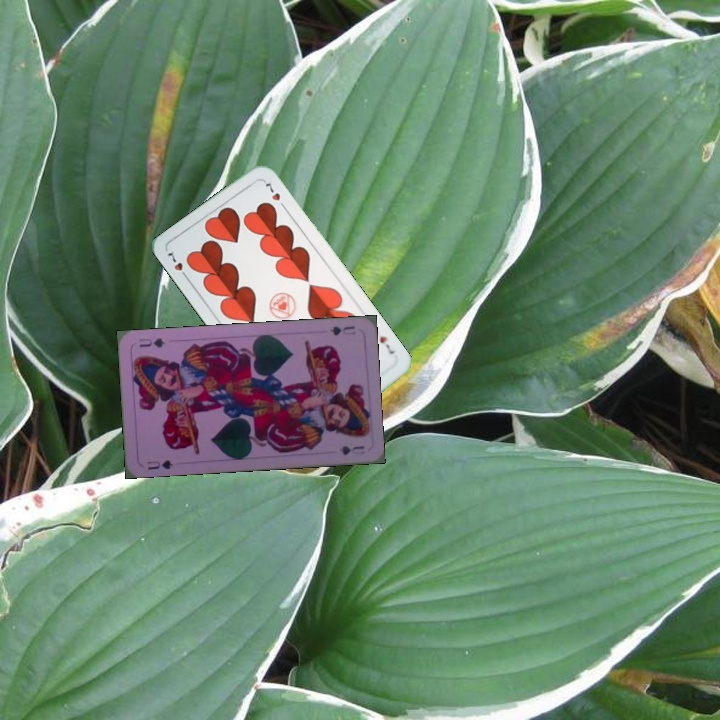GU: (143, 456, 175, 472), (326, 322, 358, 338)
H7: (163, 248, 192, 282), (375, 332, 397, 357)
